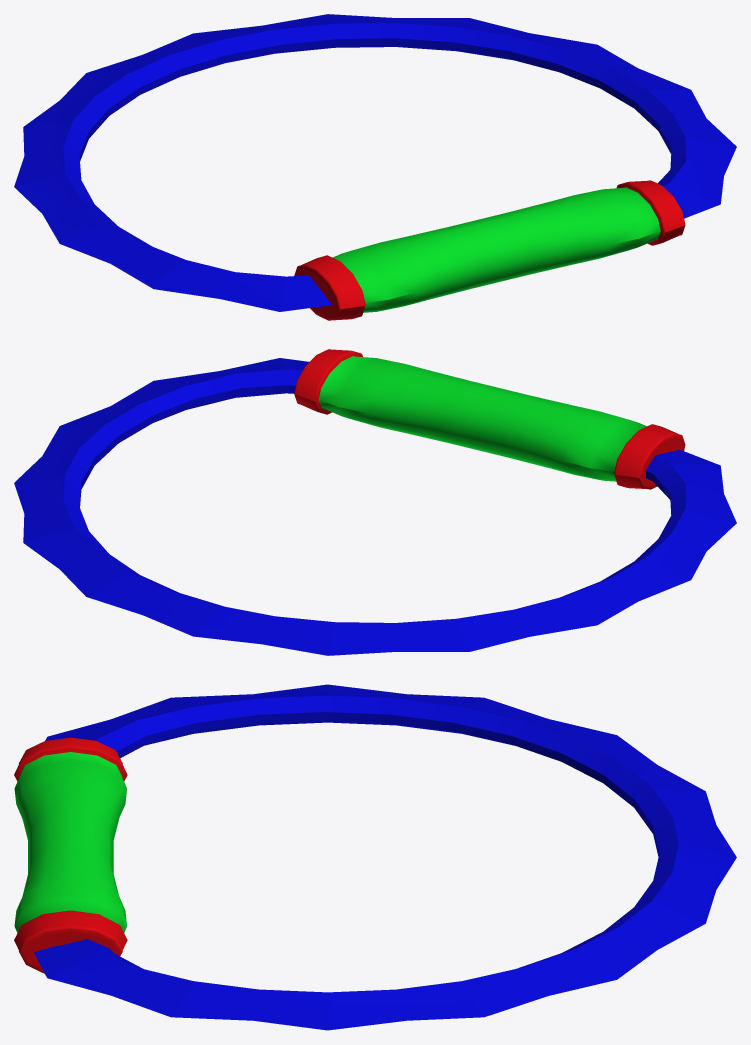
The model's file is sm_Steel_Chakram.fbx.
3 renders of one model, top to bottom at view 1: azimuth 30°, elevation 25°; view 2: azimuth 150°, elevation 25°; view 3: azimuth 270°, elevation 25°, orthographic. The views are drawn at different scales.
Visible parts, largest first — view 1: Steel_Chakram; view 2: Steel_Chakram; view 3: Steel_Chakram.
Part boxes in pixels (x1,y1,x2,y2): Steel_Chakram: [14, 14, 736, 320]; Steel_Chakram: [14, 349, 736, 655]; Steel_Chakram: [14, 684, 736, 1030].
Size of the model in its own units: 43.28 by 3.71 by 38.22.
